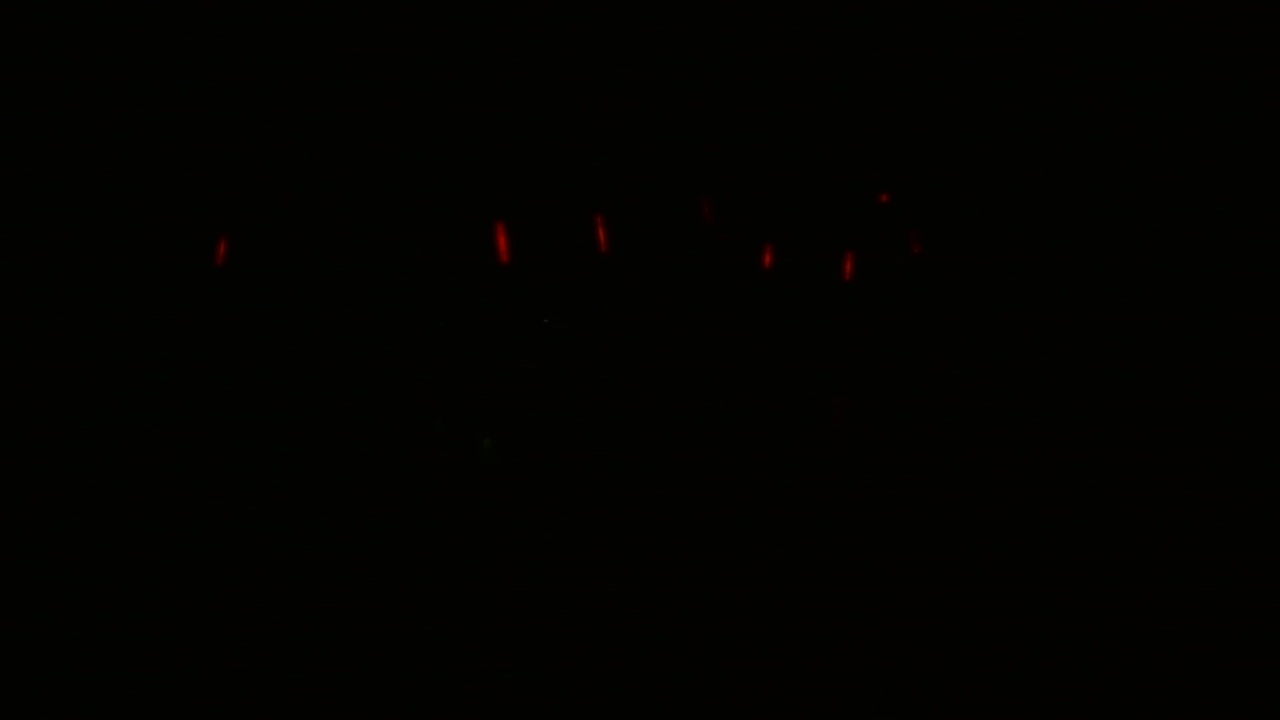pair1: (484, 204, 617, 269)
pair2: (749, 235, 867, 294)
